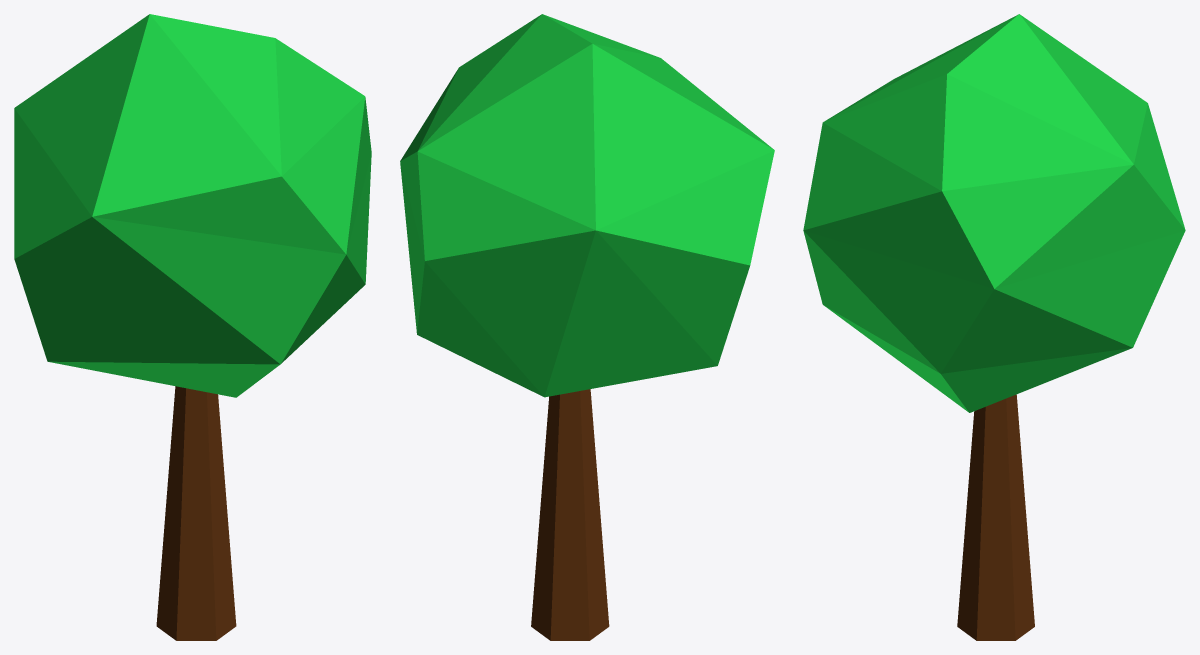
The model's file is tree.dae.
The picture shows the model from 3 angles, left to right: view 1: azimuth 30°, elevation 25°; view 2: azimuth 150°, elevation 25°; view 3: azimuth 270°, elevation 25°; orthographic projection. The views are drawn at different scales.
Parts seen in each view (by area): view 1: Icosphere; view 2: Icosphere; view 3: Icosphere.
Part boxes in pixels (left/top/right/bottom): Icosphere: left=14, top=14, right=371, bottom=640; Icosphere: left=400, top=14, right=774, bottom=640; Icosphere: left=803, top=14, right=1185, bottom=640.
Bounding box in the file's own units: 2.09 × 1.99 × 3.42.
